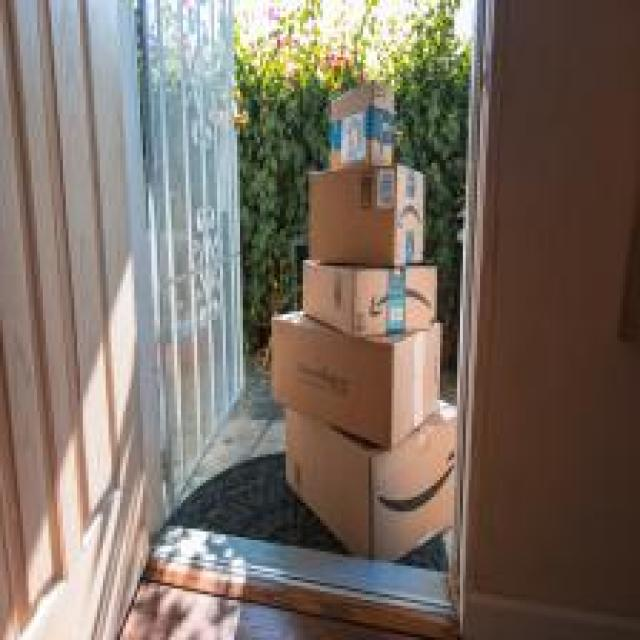box: (283, 395, 460, 568), (267, 309, 445, 454), (304, 165, 426, 268), (300, 257, 441, 339), (325, 79, 397, 169)
